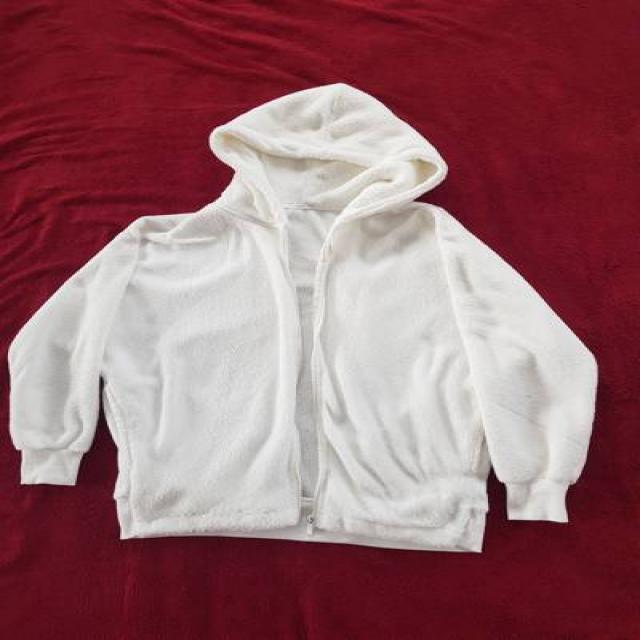Clothes -Biodegradable-: (8, 80, 595, 551)
